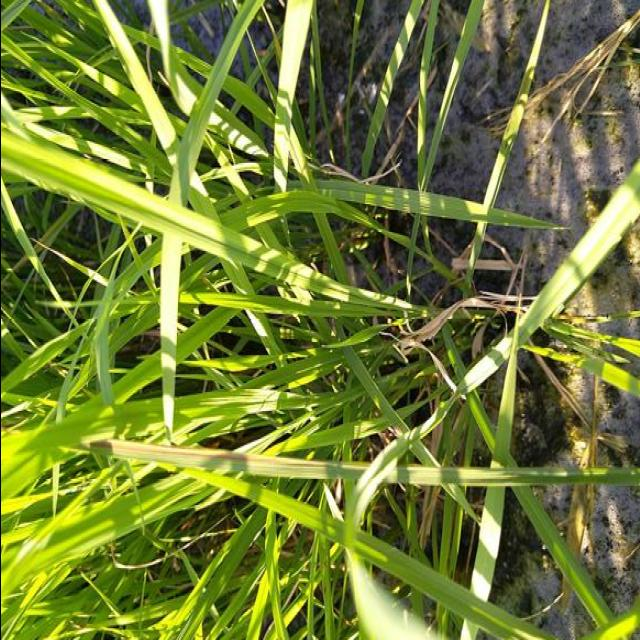Leaf Streak: (110, 440, 343, 479)
